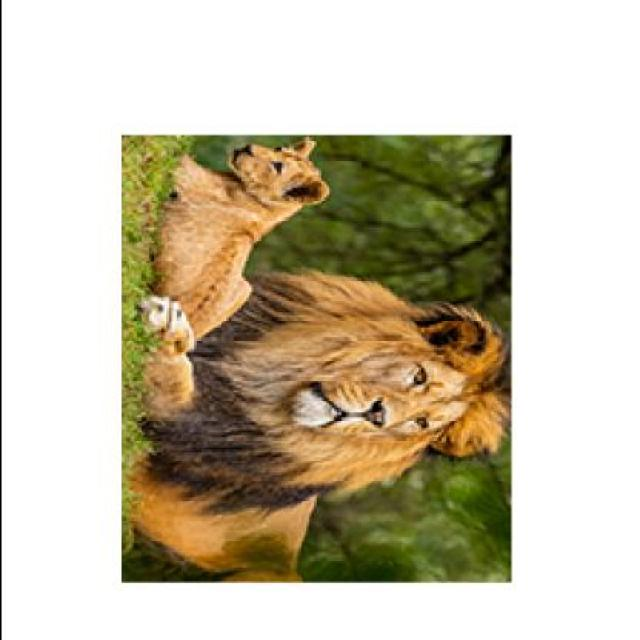Lion: (129, 269, 517, 626), (97, 126, 332, 346)
